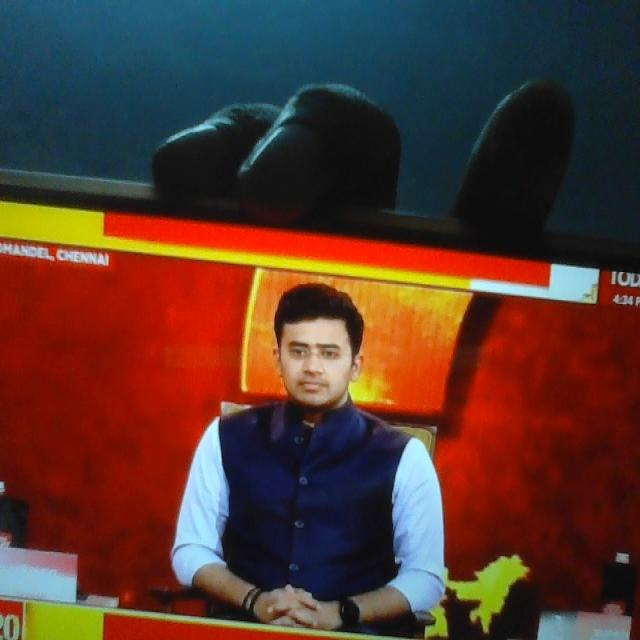fake: (239, 239, 380, 505)
